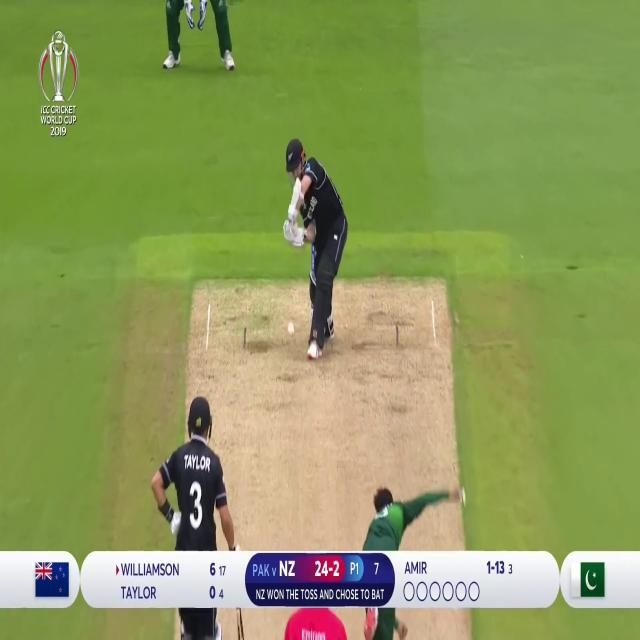bat: (288, 178, 302, 225), (233, 607, 251, 640)
